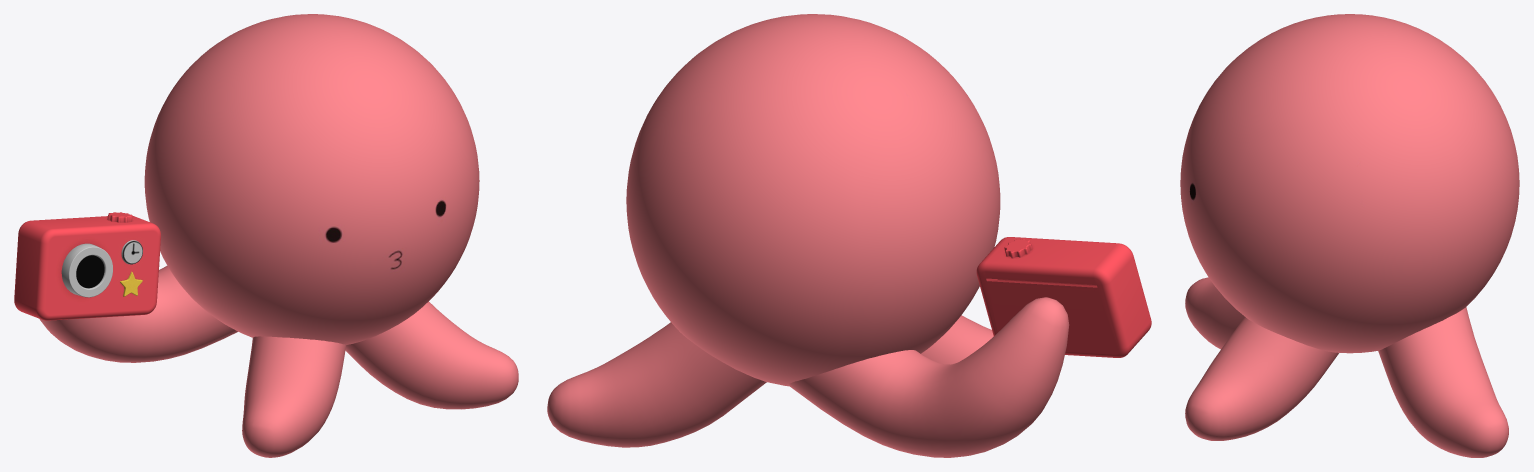
Rendered from takopi.glb.
3 views of the same model, side by side, from view 1: azimuth 30°, elevation 25°; view 2: azimuth 150°, elevation 25°; view 3: azimuth 270°, elevation 25° (orthographic). The views are drawn at different scales.
Parts seen in each view (by area): view 1: Takopi, HappyCamera; view 2: Takopi, HappyCamera; view 3: Takopi.
Boxes of the visible parts, <box> form: Takopi: <box>39,14,518,457</box>; HappyCamera: <box>14,212,160,320</box>; Takopi: <box>547,14,1069,457</box>; HappyCamera: <box>976,237,1151,357</box>; Takopi: <box>1180,14,1519,457</box>.
Bounding box in the file's own units: 0.7917 × 0.5878 × 0.5.
Materials: 1 (1 with a texture image).
